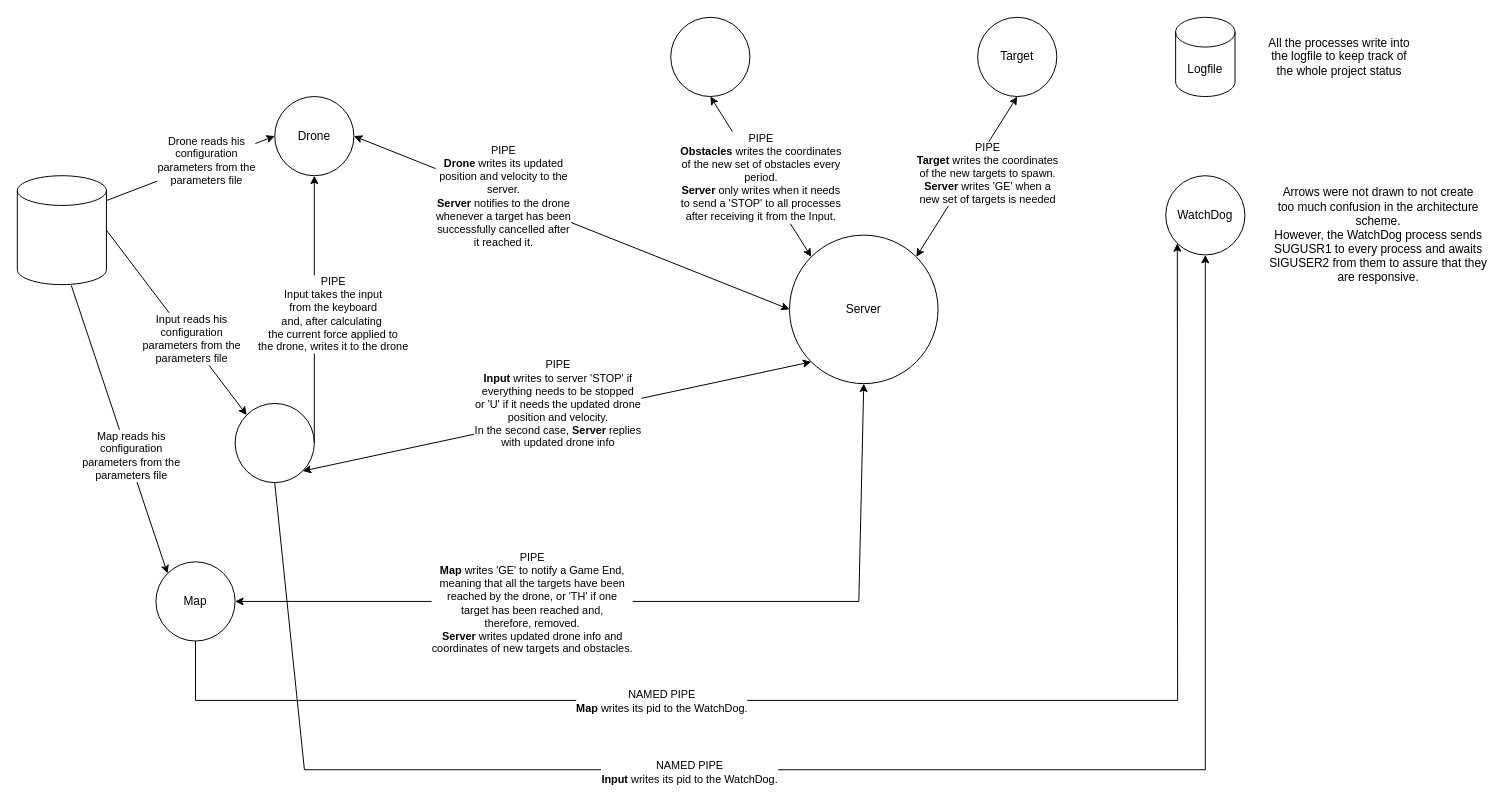
Some shapes in this 1510 by 802 pixel diagram are drawn without their labels. The centre of each missing label's shape, as x and y in pixels:
"Input" goes at point (274, 442).
"Obstacles" goes at point (710, 56).
"TOML Configuration parameters file" goes at point (61, 230).
